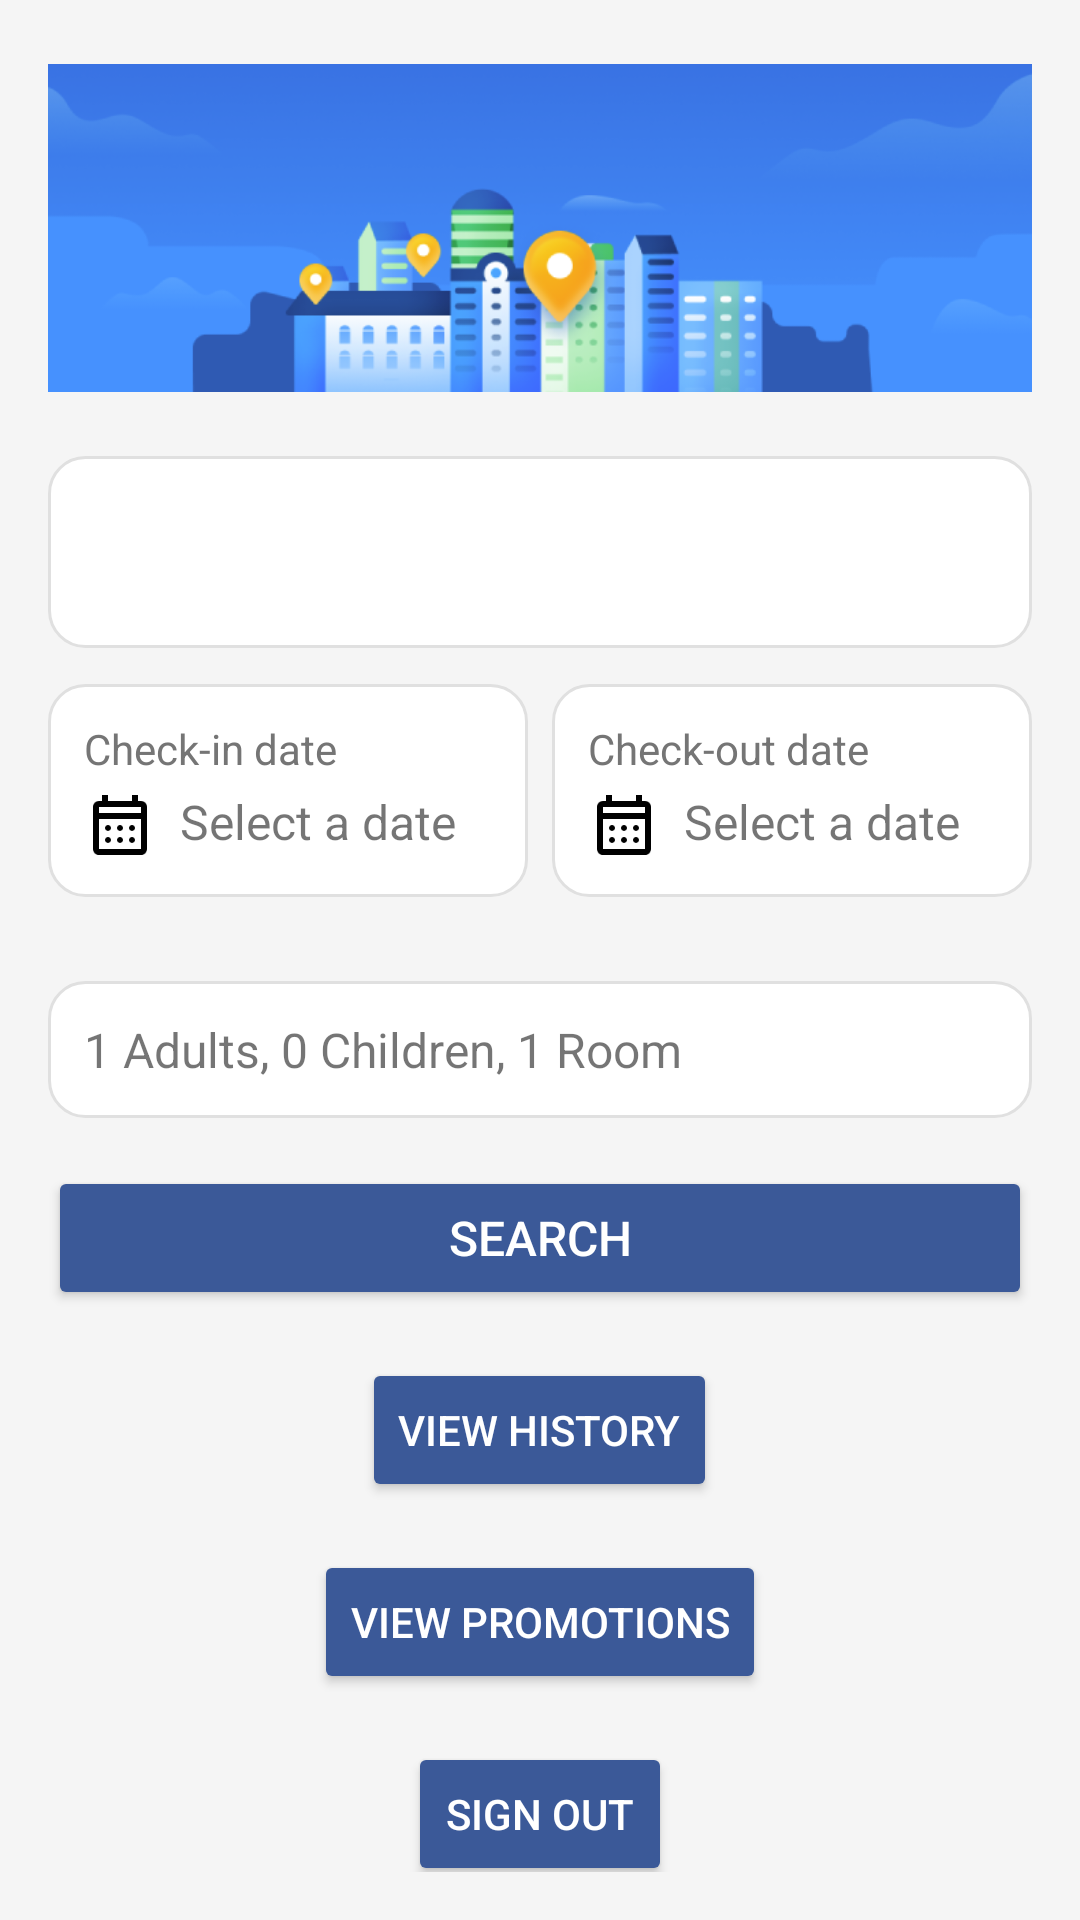

Icons on this 1080w x 1920h Android screen, each with its box as (x1, y1, x2, y2):
Calendar Icon: (93, 795, 147, 855), (597, 795, 651, 855)
